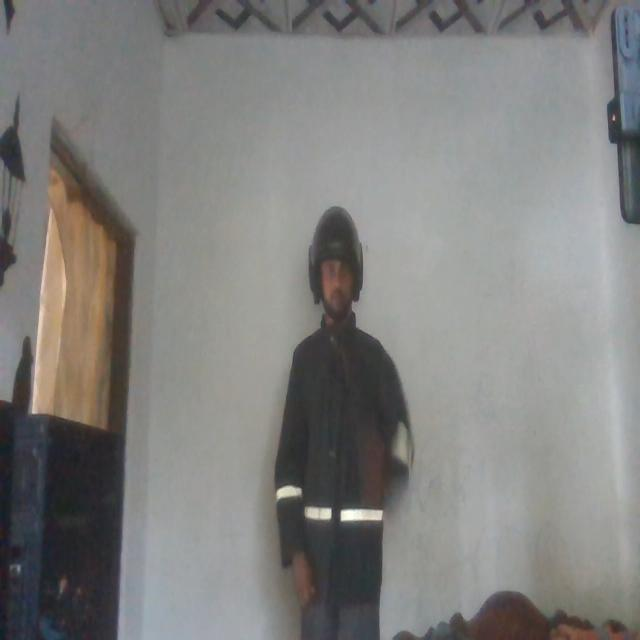Helmet_Wearer: (301, 201, 368, 325)
Jacket_Wearer: (274, 322, 416, 604)
Person: (272, 201, 410, 640)
